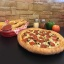pizza: (15, 32, 64, 53)
